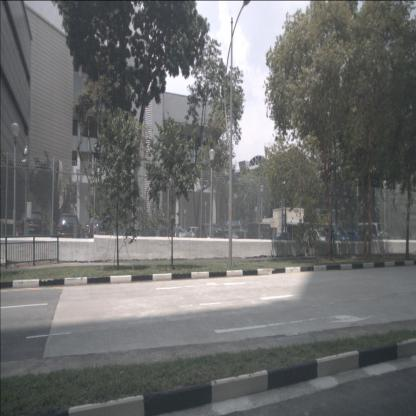vehicle-car: (19, 210, 50, 248), (143, 219, 175, 249), (88, 215, 115, 248), (56, 213, 81, 247), (239, 224, 273, 246), (303, 228, 336, 250), (193, 224, 224, 245), (322, 227, 350, 247), (214, 228, 239, 245), (342, 229, 365, 244), (166, 226, 186, 242), (185, 227, 202, 243), (275, 232, 292, 242)
vehicle-truck: (358, 223, 388, 247)
